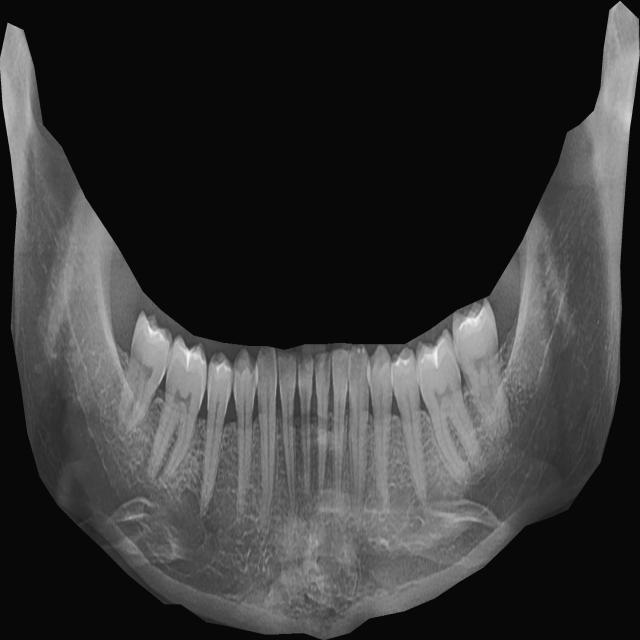mandibula: (0, 1, 640, 640)
